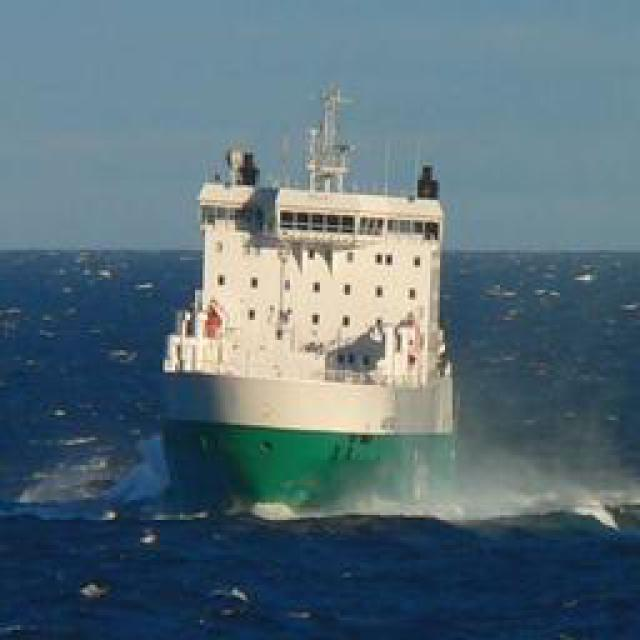Ship: (156, 86, 451, 526)
